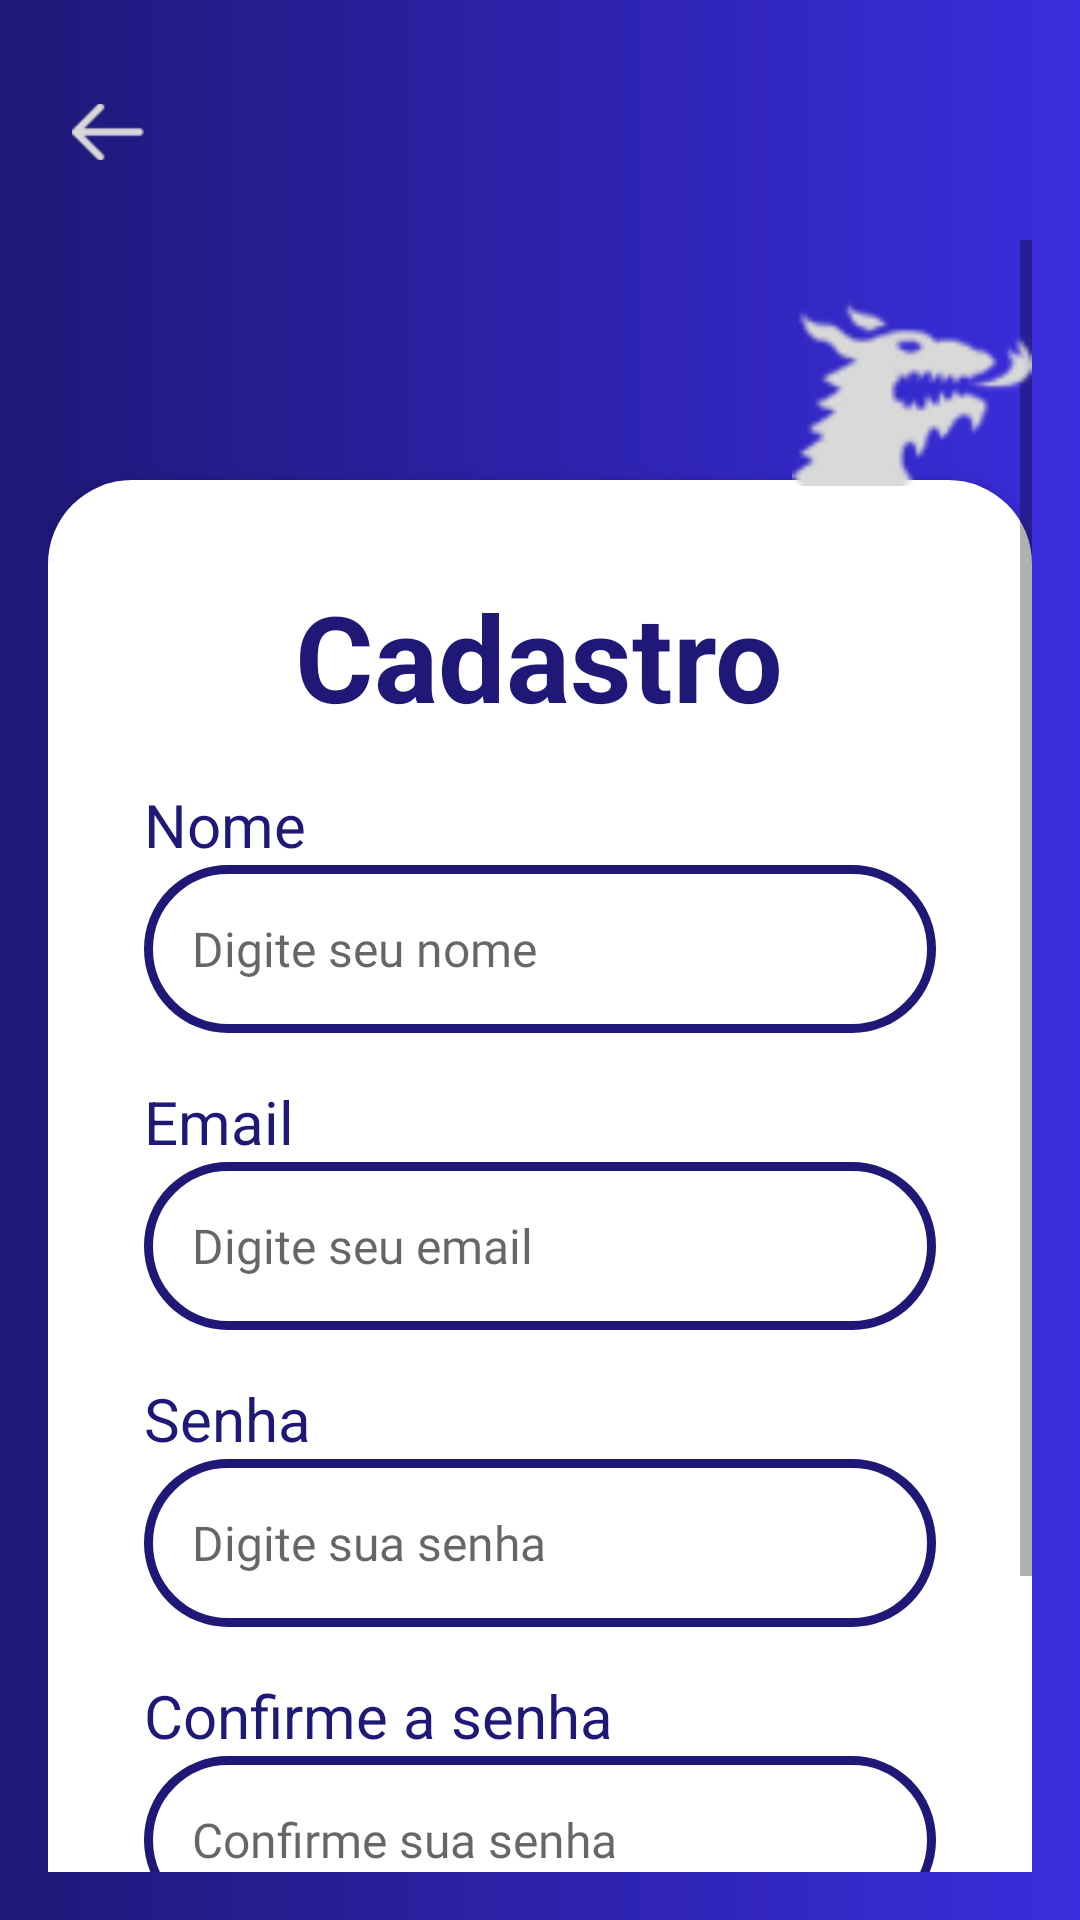

Screen size 1080 × 1920. Icon name, then its center in pixels as point (x, y):
Mascote do projeto: point (912, 390)
Voltar: point (108, 132)
